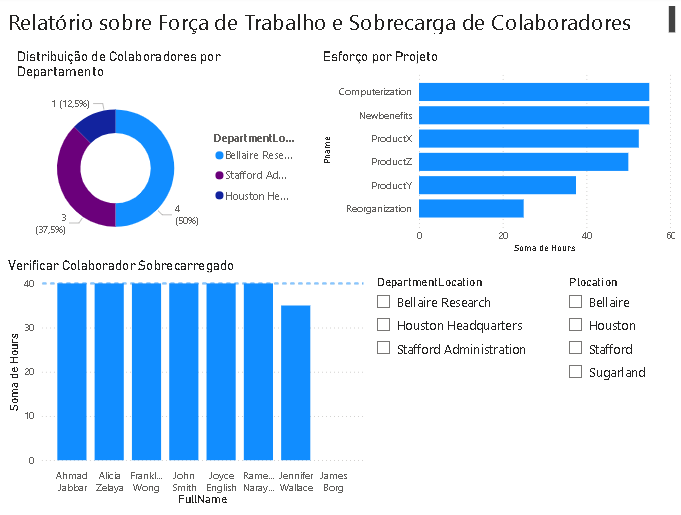

The page's visual inventory and layout, read from the dashboard file:
{"tool":"powerbi","page":{"name":"Página 1","canvas":[1280,720],"ordinal":0},"visuals":[{"type":"donutChart","title":"Distribuição de Colaboradores por Departamento","fields":{"Category":["azure_company departament.DepartmentLocation"],"Y":["CountNonNull(azure_company employee.Ssn)"]},"box":[21.2,116.2,362.5,262.5],"z":0},{"type":"barChart","title":"Esforço por Projeto","fields":{"Category":["azure_company project.Pname"],"Y":["Sum(azure_company works_on.Hours)"]},"box":[403.8,116.2,450,261.2],"z":1000},{"type":"lineClusteredColumnComboChart","title":"Verificar Colaborador Sobrecarregado","fields":{"Category":["azure_company employee.FullName"],"Y":["Sum(azure_company works_on.Hours)"]},"box":[10,378,454,316],"z":2000},{"type":"slicer","fields":{"Values":["azure_company departament.DepartmentLocation"]},"box":[463.8,396.2,300,280],"z":3000},{"type":"slicer","fields":{"Values":["azure_company project.Plocation"]},"box":[703.8,396.2,300,300],"z":4000},{"type":"textbox","box":[10,58.8,843.8,45],"z":4001}]}

Visuals, with their boxes on the page's 1280x720 design canvas (x1, y1, x2, y2). These are canvas units, not pixel positions in the 681x515 screenshot, which may show the page scaled, cropped or inside an application window:
"Distribuição de Colaboradores por Departamento" donutChart: x1=21, y1=116, x2=384, y2=379
"Esforço por Projeto" barChart: x1=404, y1=116, x2=854, y2=377
"Verificar Colaborador Sobrecarregado" lineClusteredColumnComboChart: x1=10, y1=378, x2=464, y2=694
slicer - azure_company departament.DepartmentLocation: x1=464, y1=396, x2=764, y2=676
slicer - azure_company project.Plocation: x1=704, y1=396, x2=1004, y2=696
textbox: x1=10, y1=59, x2=854, y2=104
